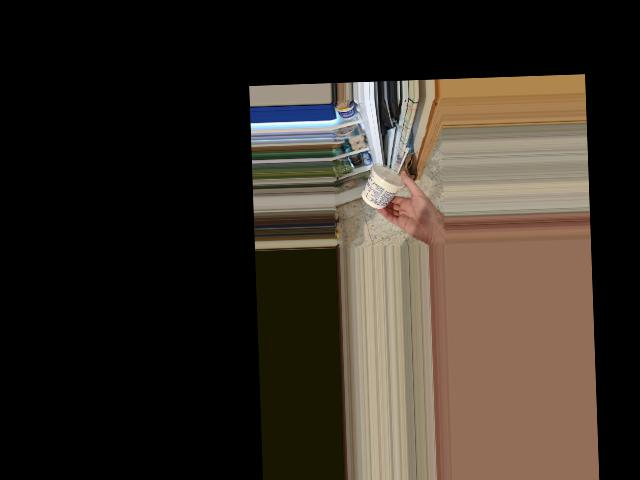cotage: (362, 162, 402, 208)
